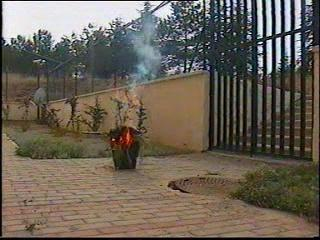smoke: (136, 41, 159, 86)
